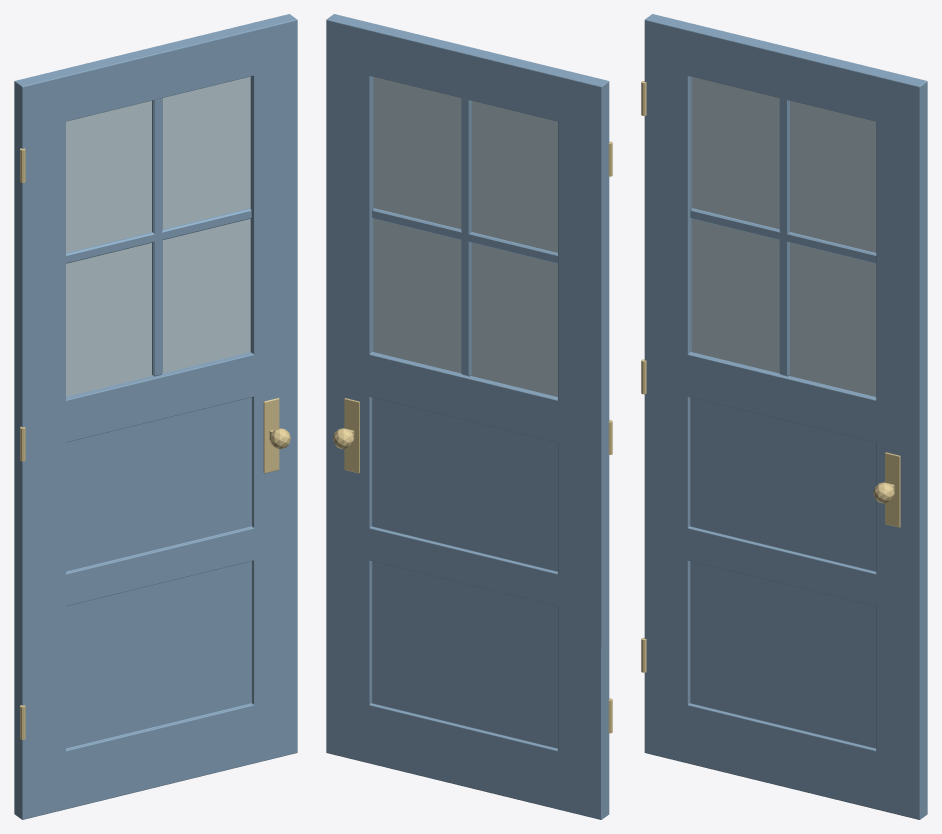
The model's file is door_back.glb.
3 views of the same model, side by side, from view 1: azimuth 30°, elevation 25°; view 2: azimuth 150°, elevation 25°; view 3: azimuth 330°, elevation 25° (orthographic).
Parts seen in each view (by area): view 1: door_back_door, door_back_glass, door_back_brass; view 2: door_back_door, door_back_glass, door_back_brass; view 3: door_back_door, door_back_glass, door_back_brass.
Boxes of the visible parts, x1,y1,x2,y2 form: door_back_door: (14,14,297,819); door_back_glass: (66,76,250,396); door_back_brass: (20,148,290,739); door_back_door: (326,14,609,819); door_back_glass: (373,76,557,396); door_back_brass: (333,141,612,733); door_back_door: (644,14,927,819); door_back_glass: (691,77,876,396); door_back_brass: (641,81,900,672).
Size of the model in its own units: 0.888 by 2.24 by 0.205.
